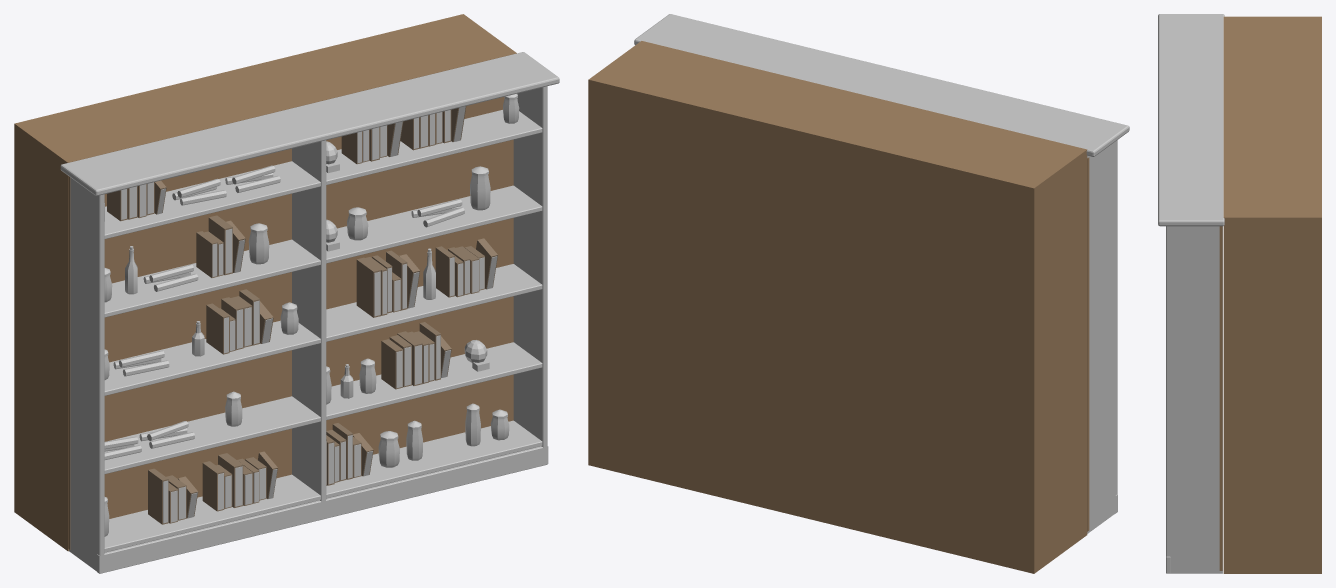
Rendered from furn_shelves_jars.glb.
The picture shows the model from 3 angles, left to right: view 1: azimuth 30°, elevation 25°; view 2: azimuth 150°, elevation 25°; view 3: azimuth 270°, elevation 25°; orthographic projection. The views are drawn at different scales.
Visible parts, largest first — view 1: furn_shelves_jars; view 2: furn_shelves_jars; view 3: furn_shelves_jars.
Part boxes in pixels (bbox=[...]): furn_shelves_jars: bbox=[14, 14, 559, 573]; furn_shelves_jars: bbox=[588, 14, 1129, 573]; furn_shelves_jars: bbox=[1158, 14, 1321, 573].
Bounding box in the file's own units: 3.1 × 2.48 × 1.03.
